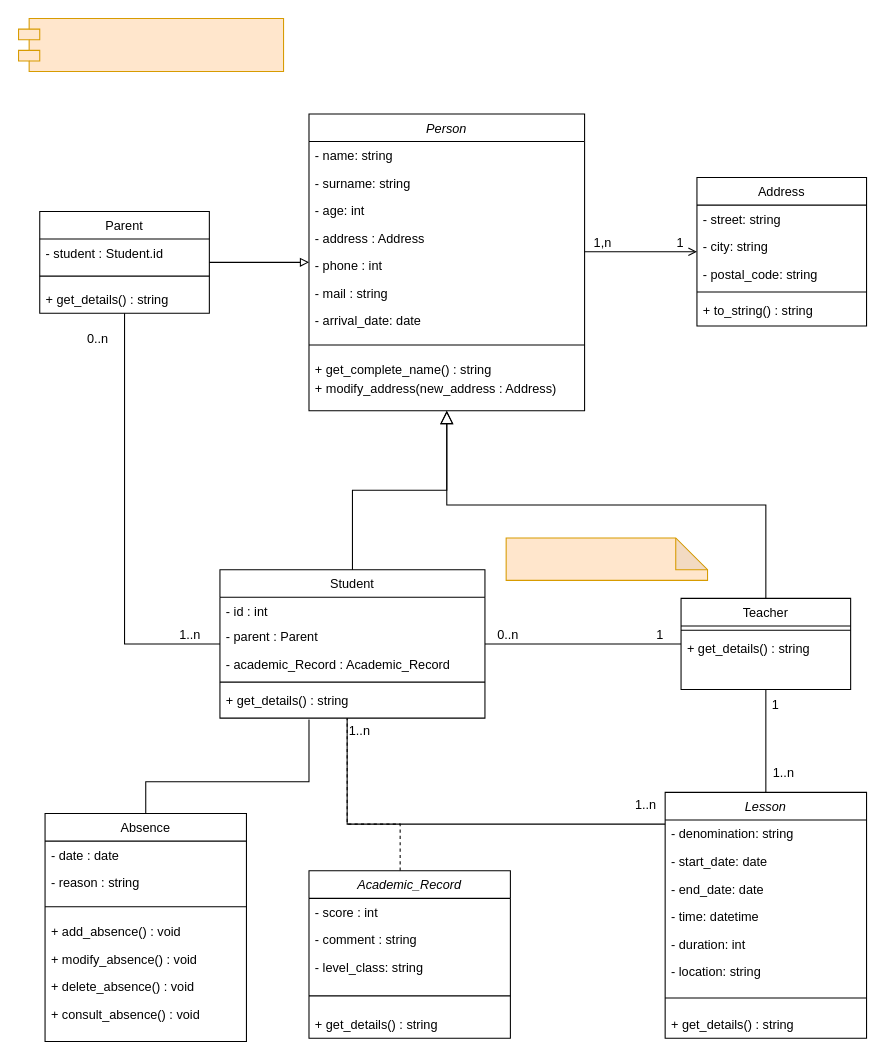
Some shapes in this 885 by 1060 pixel diagram are drawn without their labels. The centre of each missing label's shape, as x and y in pixels:
1 "Teacher" référent par "Student": pixel 606 558
DIAGRAMME DE CLASSES: pixel 150 44
